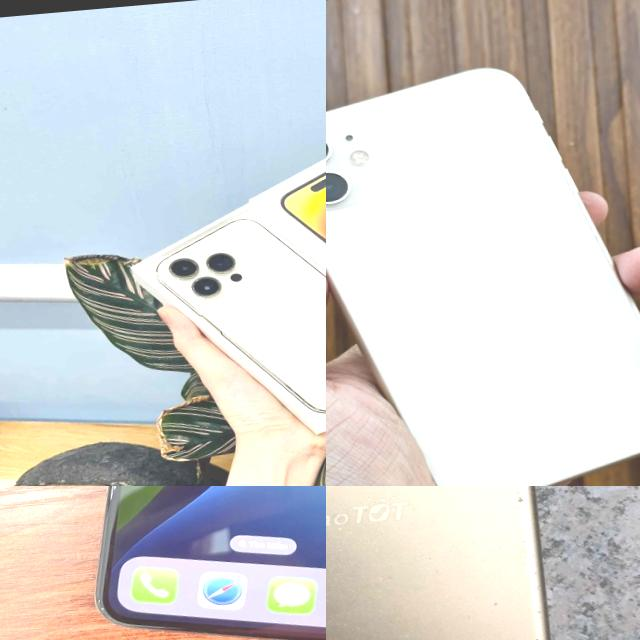scratch: (501, 590, 571, 640), (488, 486, 551, 537), (326, 596, 355, 640)
